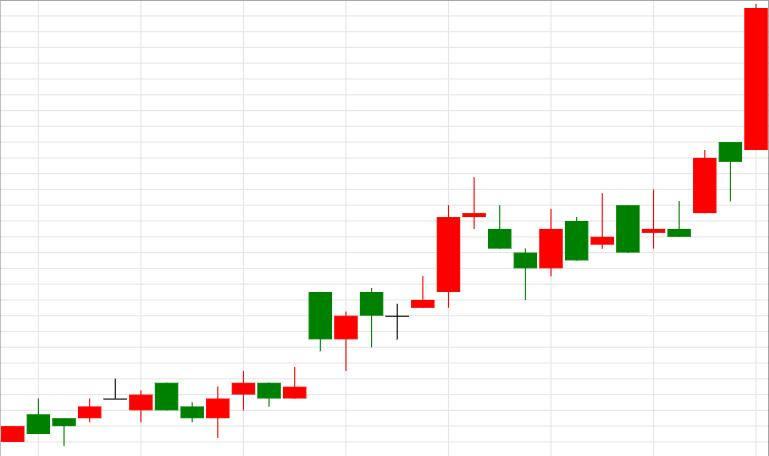evening_star_fall: (284, 177, 511, 399)
